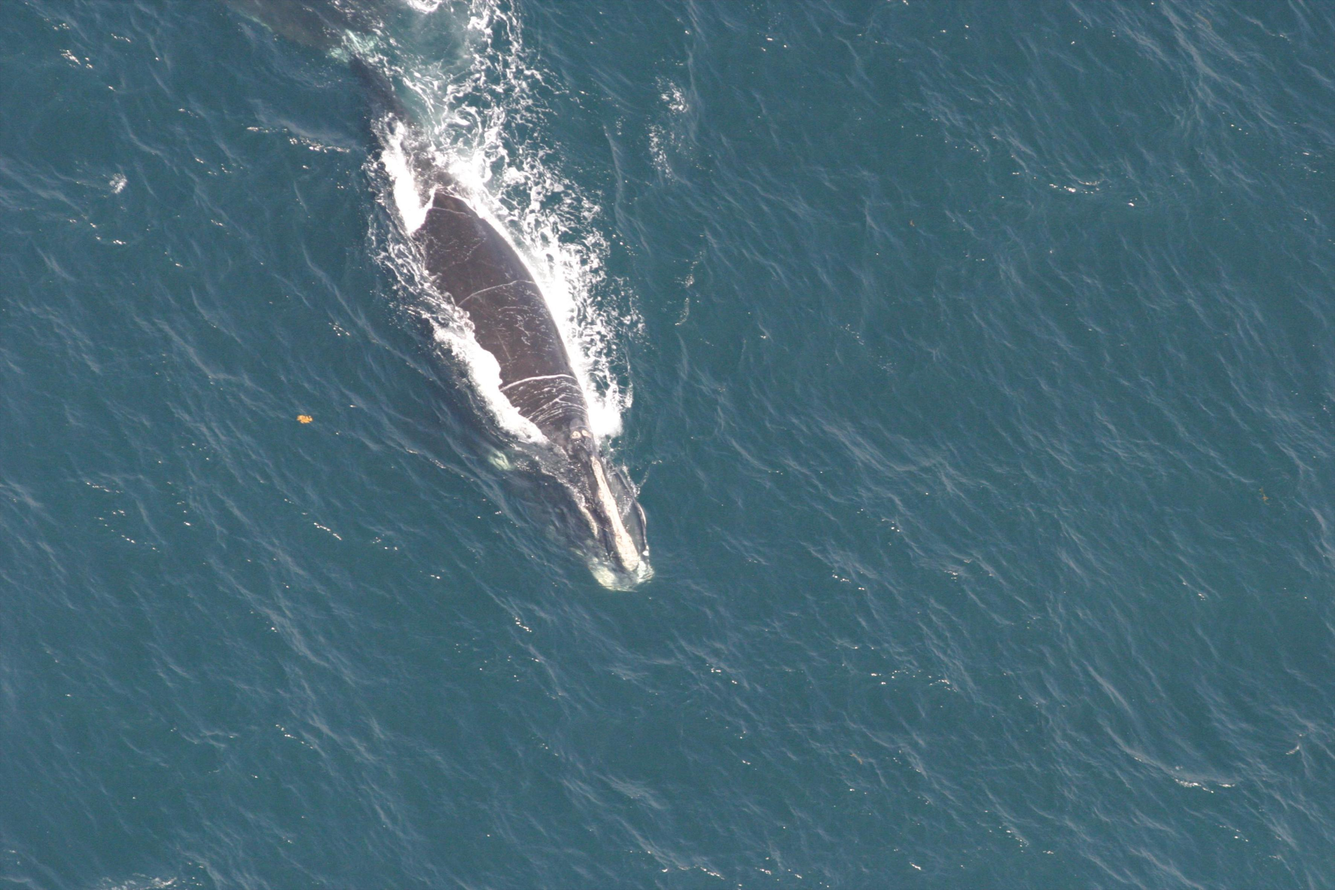whale: (209, 0, 661, 599)
